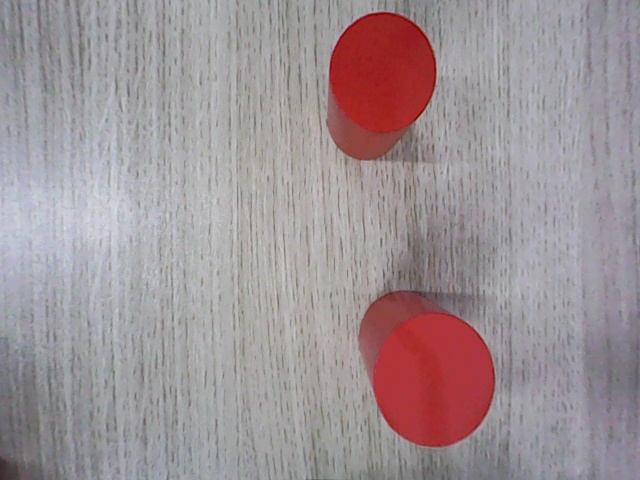upside of cylinder: (373, 313, 495, 448), (329, 12, 438, 133)
